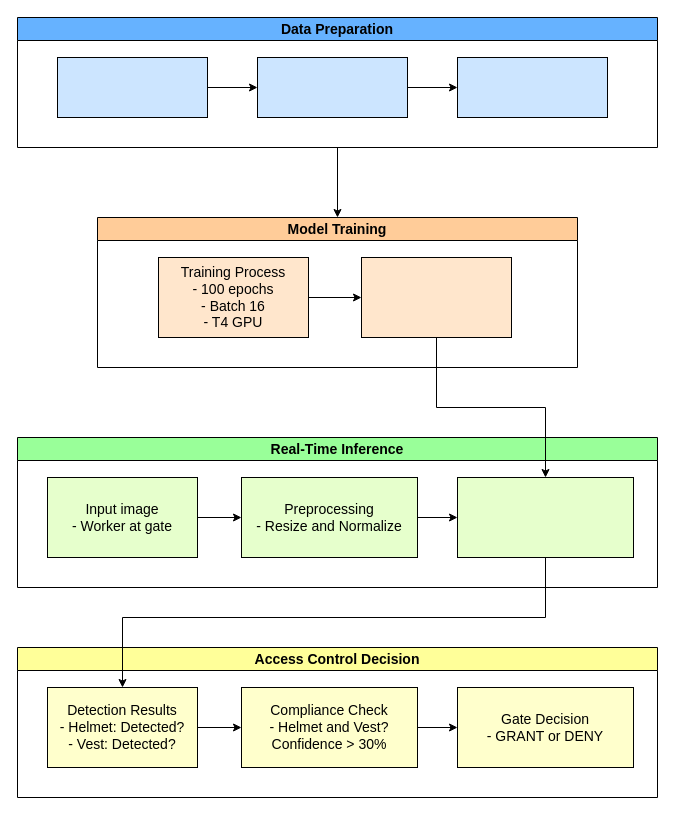
This 675x815 diagram has some shape labels left out. The shapes that lost their labels are listed below. From the top down, each one's centre as x and y in pixels, then its label:
At (x=132, y=87): "Roboflow dataset".
At (x=332, y=87): "Data Split - Train 70%, Val 20%, Test 10%".
At (x=532, y=87): "Data Augmentation".
At (x=436, y=297): "Trained YOLOv8m model - 97.6% Helmet 96.3% Vest".
At (x=545, y=517): "YOLOv8m Inference - Object detection".
